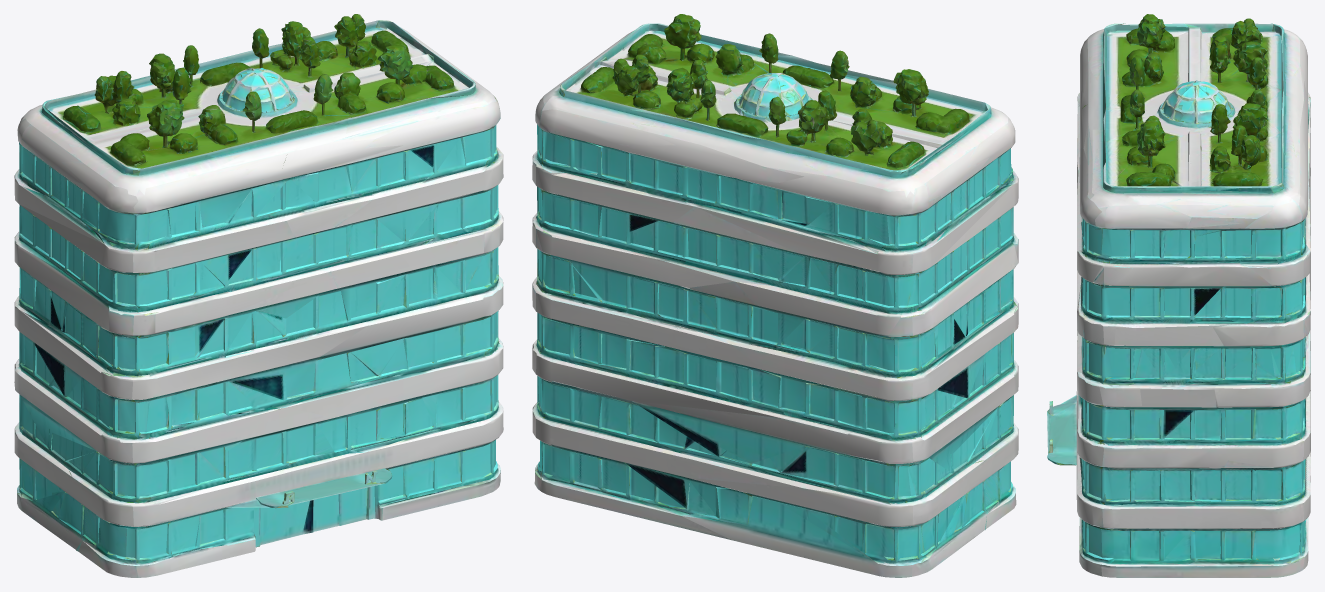
Rendered from office.glb.
3 renders of one model, left to right at view 1: azimuth 30°, elevation 25°; view 2: azimuth 150°, elevation 25°; view 3: azimuth 270°, elevation 25°, orthographic. The views are drawn at different scales.
Size of the model in its own units: 1.82 by 1.9 by 1.09.
1 material, 1 textured.
